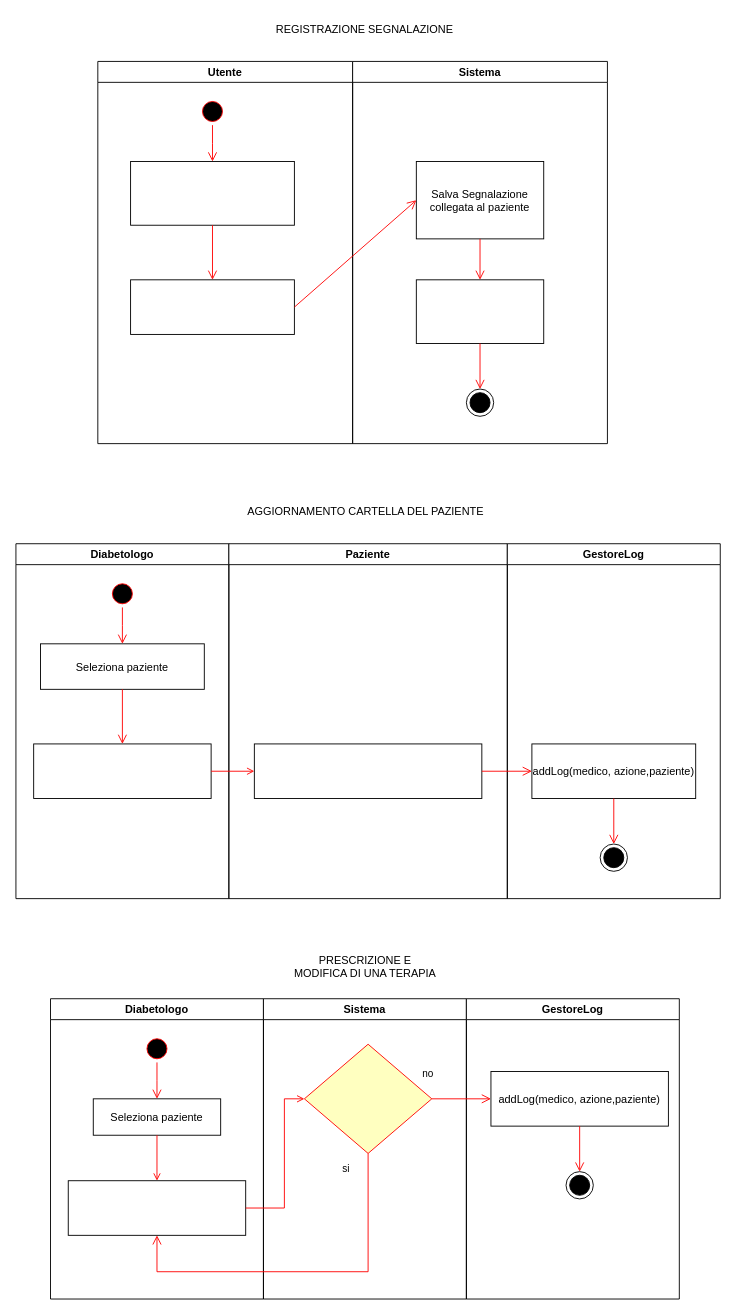
The diagram is 736 pixels wide and 1315 high, and some of its shapes have lost their labels. Each missing label, with the centre of its shape:
"Conferma registrazione" belongs at pixel 479 311.
"Dati da modificare?" belongs at pixel 367 1098.
"editCartella(medicoAutorizzato, gestoreLog)" belongs at pixel 367 771.
"Inserisce descrizione, dataInizioPeriodo e dataFinePeriodo" belongs at pixel 212 306.
"Inserisce farmaco, dose, numeroAssunzioniGiornaliere, indicazioni" belongs at pixel 156 1207.
"Modifica fattoriDiRischio, patologiePregresse, comorbidità, dettagli" belongs at pixel 122 771.
"Sceglie tipo: sintomo, patologia o terapia concomitante" belongs at pixel 212 193.
